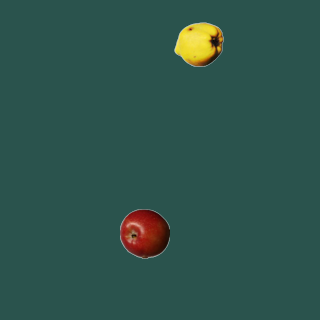Apple Braeburn: (119, 208, 169, 258)
Quince: (173, 19, 223, 69)
